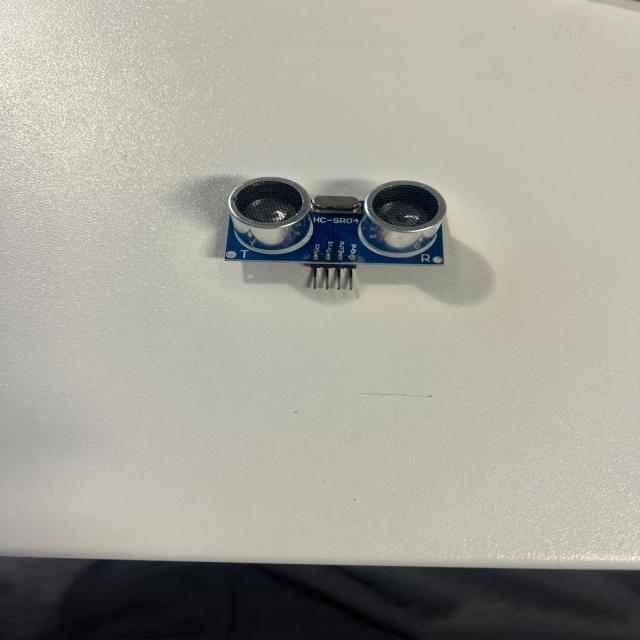UltrasoneSensor: (216, 164, 449, 297)
